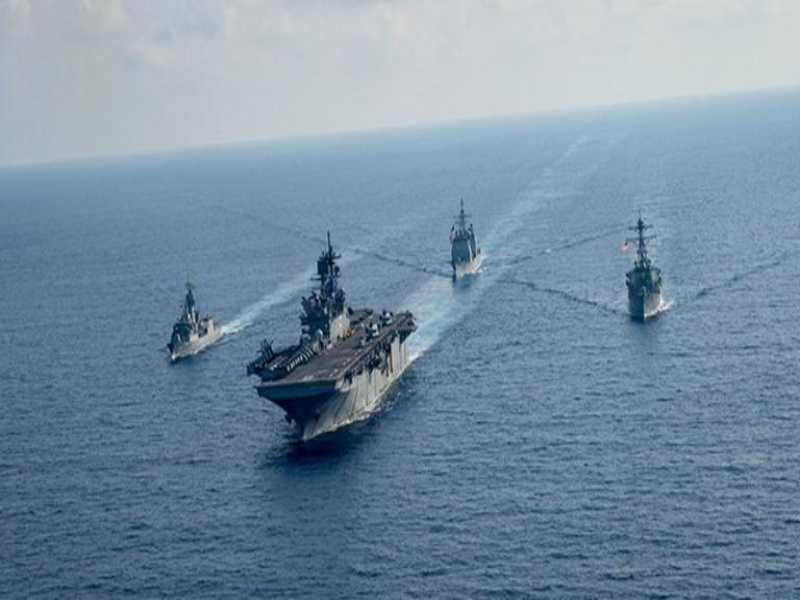carrier: (253, 257, 412, 436)
cruise: (429, 202, 503, 286), (618, 222, 673, 324), (169, 281, 222, 367)
